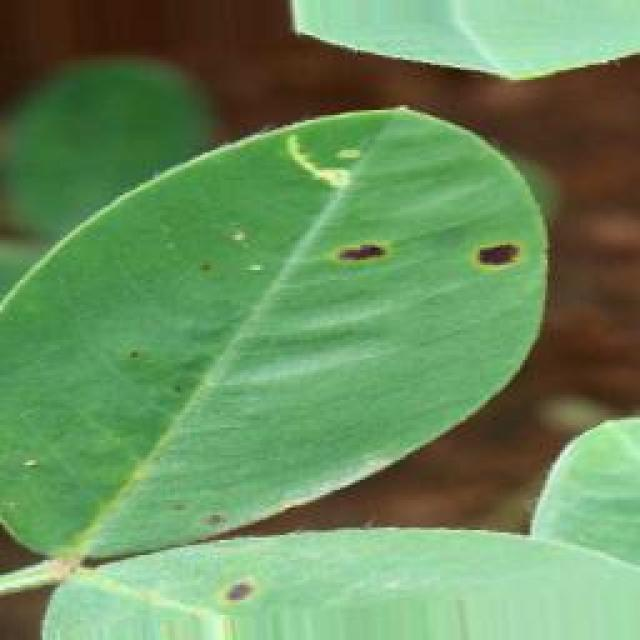Early_leaf_spot: (183, 564, 300, 632), (300, 228, 413, 290), (450, 215, 544, 288), (188, 482, 247, 546)
